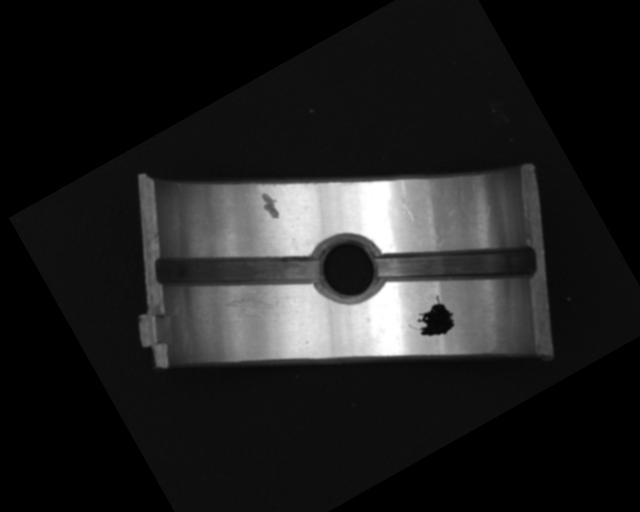blot: (402, 291, 462, 348)
bruise: (255, 188, 285, 224)
gap: (154, 196, 322, 345), (374, 195, 542, 341)
hole: (300, 223, 395, 318)
nick: (386, 178, 424, 224)
scratch: (216, 274, 290, 340)
